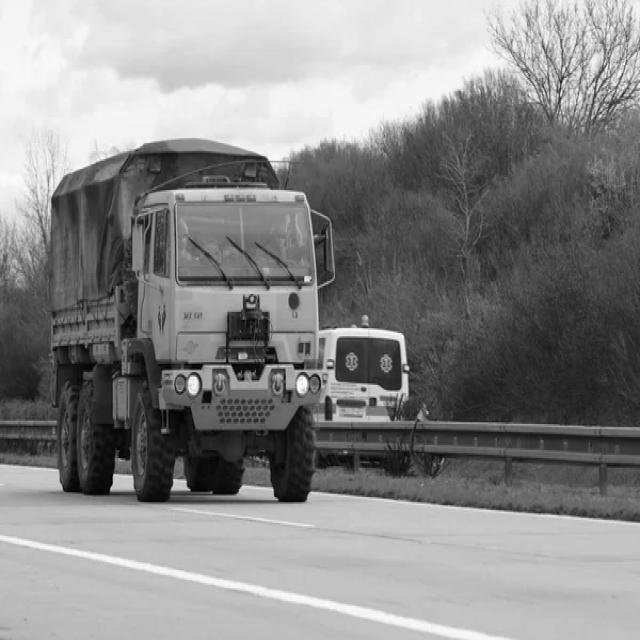Car: (314, 327, 409, 423)
Truck: (49, 140, 335, 502)
